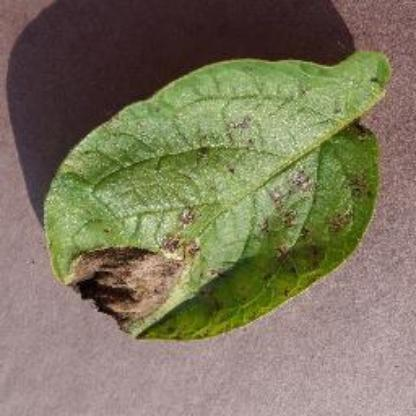Late-Blight: (26, 43, 398, 351)
